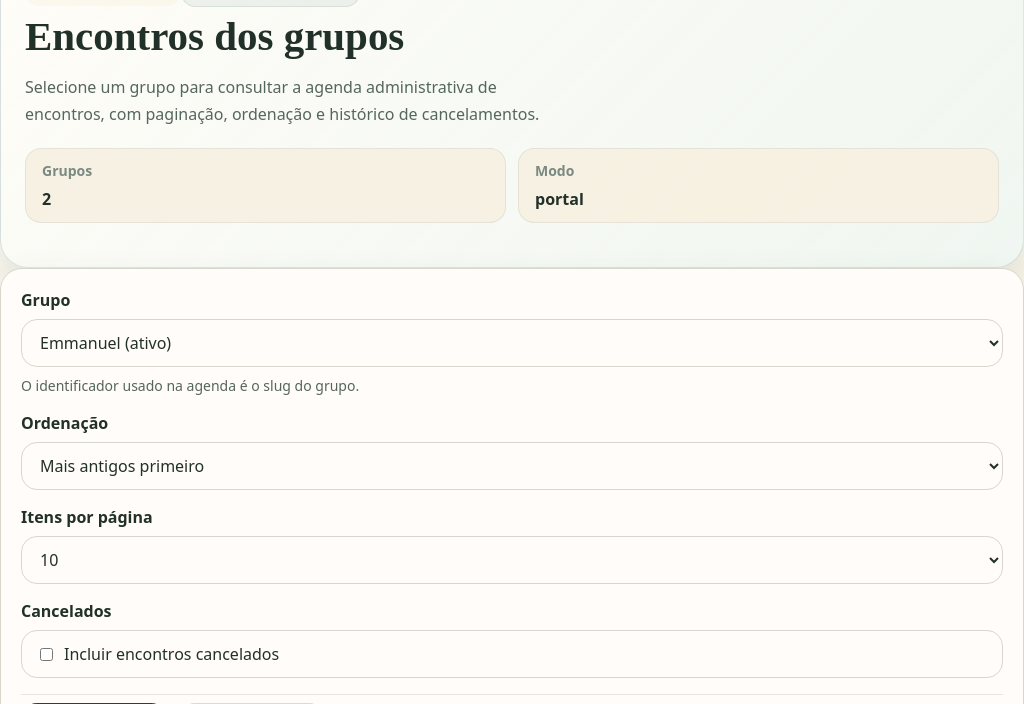
Test: AdminGroupsPage concurrency › resposta antiga não sobrescreve filtros aplicados mais recentes
Click the checkbox labelled "Cancelados Incluir encontros cancelados".
click(46, 654)  # box [40,648,53,661]
(page scrolled)
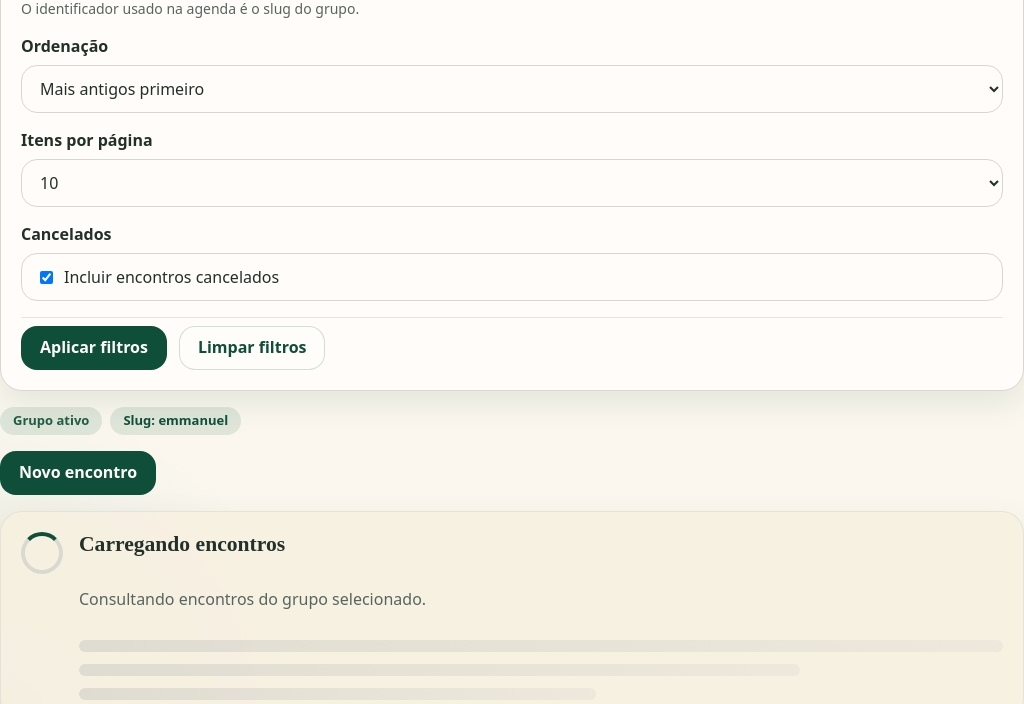
Click the button "Aplicar filtros".
click(94, 348)  # box [21,326,167,370]
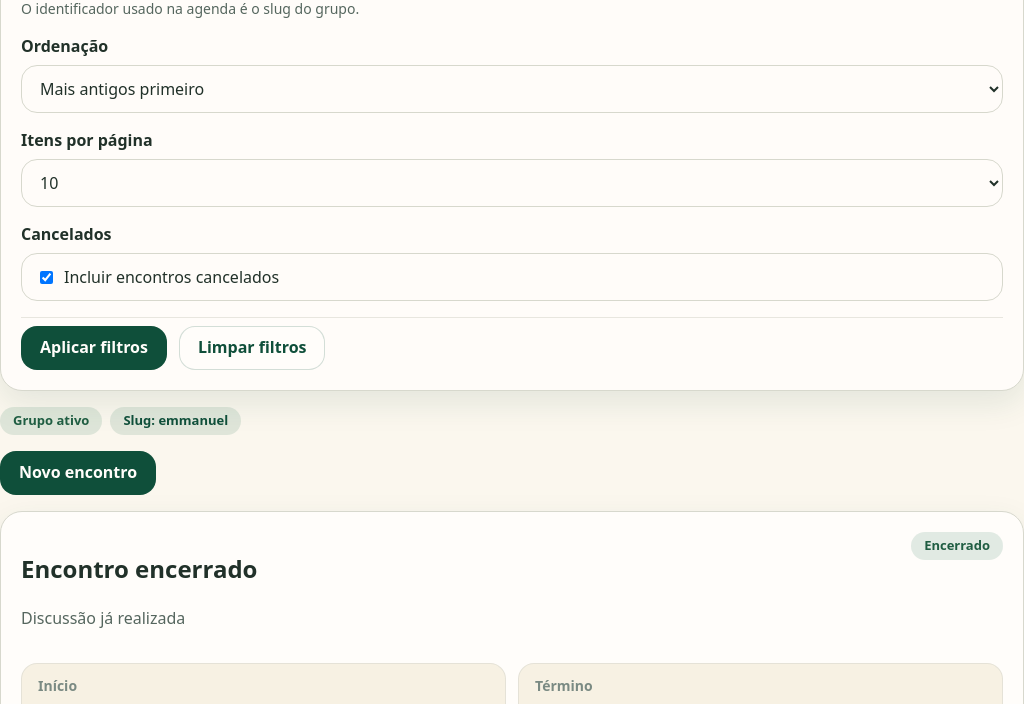
Result: the heading "Encontro encerrado" is shown at [21,552,257,585]
